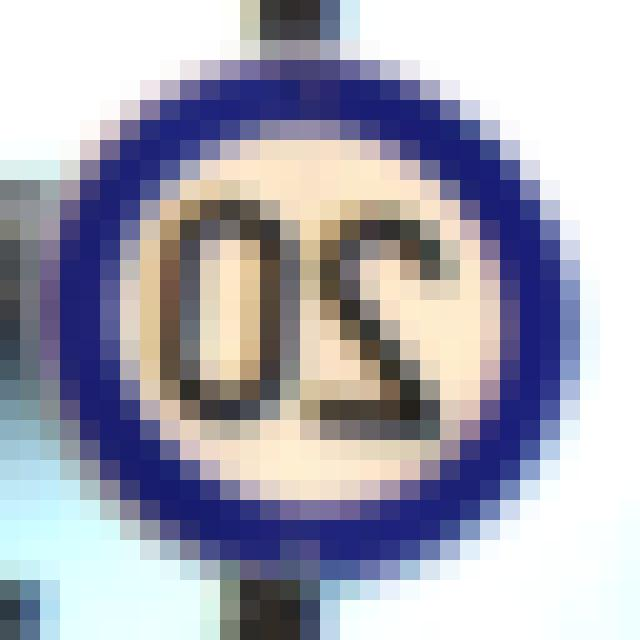SPEED LIMIT 20: (53, 57, 588, 560)
